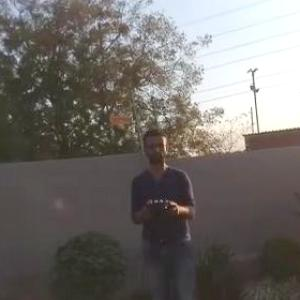follow: (126, 113, 202, 299)
